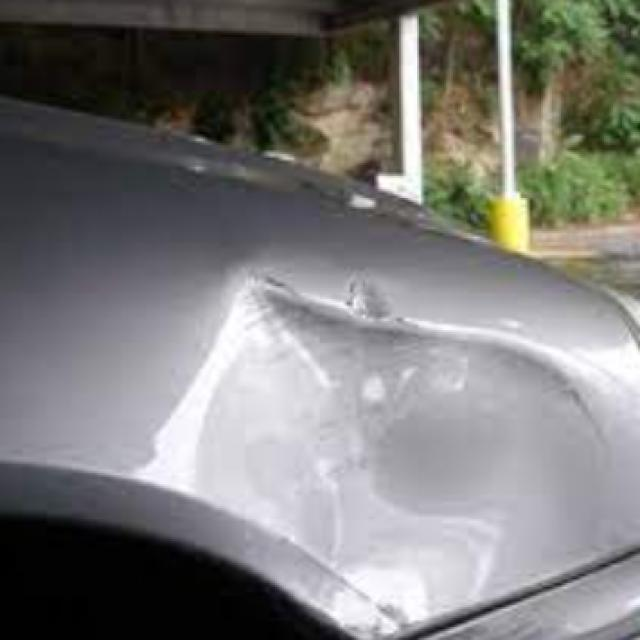dents: (158, 257, 610, 634)
